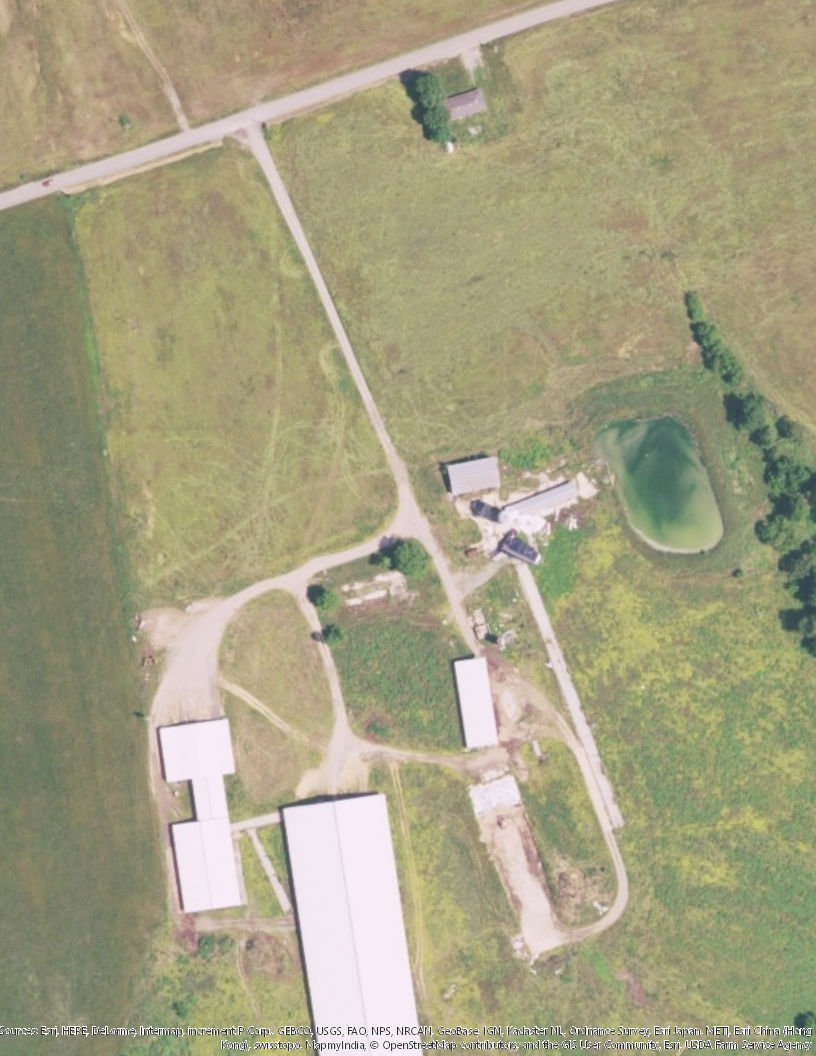cafo: (267, 791, 437, 1056), (151, 713, 258, 919), (455, 649, 504, 752), (438, 453, 513, 500)
